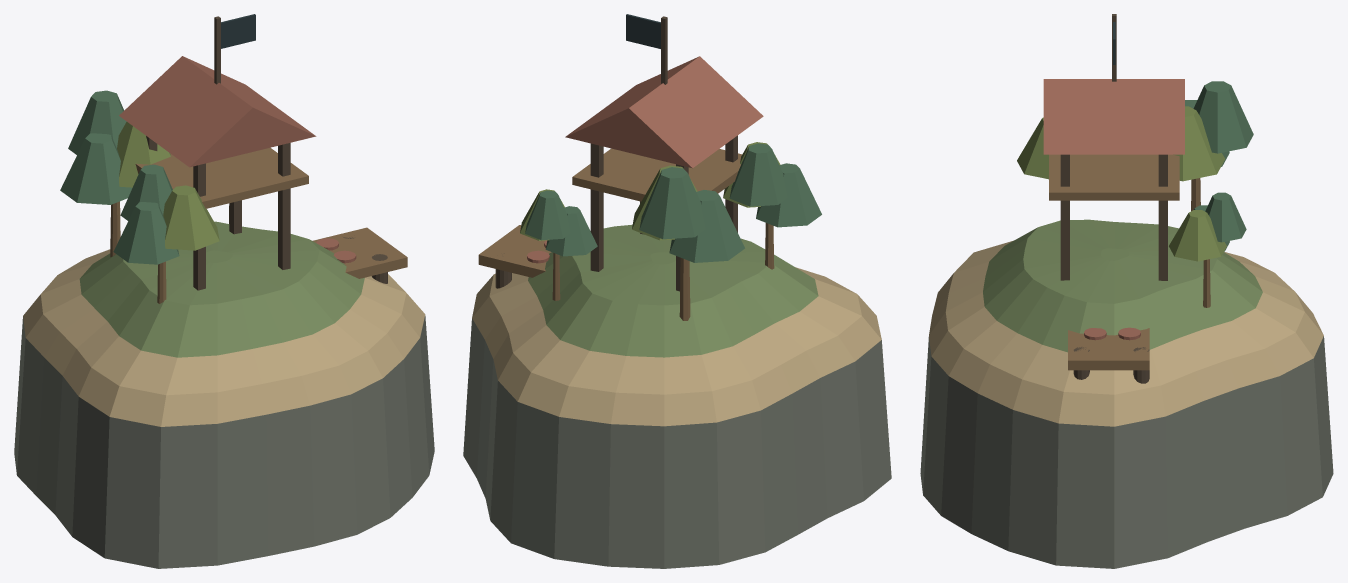
The model's file is layout_pirate_island.glb.
The picture shows the model from 3 angles, left to right: view 1: azimuth 30°, elevation 25°; view 2: azimuth 150°, elevation 25°; view 3: azimuth 270°, elevation 25°; orthographic projection.
Visible parts, largest first — view 1: pirate_island_HarborLayout_sand, pirate_island_HarborLayout_red, pirate_island_HarborLayout_leaf, pirate_island_HarborLayout_wood, pirate_island_HarborLayout_leaf_light, pirate_island_HarborLayout_beam, pirate_island_HarborLayout_dark; view 2: pirate_island_HarborLayout_sand, pirate_island_HarborLayout_leaf, pirate_island_HarborLayout_red, pirate_island_HarborLayout_wood, pirate_island_HarborLayout_beam, pirate_island_HarborLayout_leaf_light, pirate_island_HarborLayout_dark; view 3: pirate_island_HarborLayout_sand, pirate_island_HarborLayout_red, pirate_island_HarborLayout_wood, pirate_island_HarborLayout_leaf_light, pirate_island_HarborLayout_leaf, pirate_island_HarborLayout_beam.
Boxes of the visible parts, x1,y1,x2,y2 form: pirate_island_HarborLayout_sand: [14, 221, 434, 568]; pirate_island_HarborLayout_red: [119, 56, 356, 263]; pirate_island_HarborLayout_leaf: [60, 90, 179, 264]; pirate_island_HarborLayout_wood: [110, 147, 407, 303]; pirate_island_HarborLayout_leaf_light: [117, 122, 219, 250]; pirate_island_HarborLayout_beam: [146, 16, 387, 290]; pirate_island_HarborLayout_dark: [221, 14, 255, 48]; pirate_island_HarborLayout_sand: [463, 224, 891, 568]; pirate_island_HarborLayout_leaf: [525, 143, 821, 262]; pirate_island_HarborLayout_red: [527, 56, 763, 263]; pirate_island_HarborLayout_wood: [478, 148, 774, 320]; pirate_island_HarborLayout_beam: [495, 16, 737, 291]; pirate_island_HarborLayout_leaf_light: [520, 142, 780, 240]; pirate_island_HarborLayout_dark: [626, 14, 660, 48]; pirate_island_HarborLayout_sand: [920, 219, 1333, 568]; pirate_island_HarborLayout_red: [1043, 79, 1184, 340]; pirate_island_HarborLayout_wood: [1049, 154, 1210, 370]; pirate_island_HarborLayout_leaf_light: [1017, 106, 1226, 261]; pirate_island_HarborLayout_leaf: [1185, 81, 1253, 251]; pirate_island_HarborLayout_beam: [1060, 14, 1167, 383].
Bounding box in the file's own units: 7.8 × 9.3 × 7.59.
